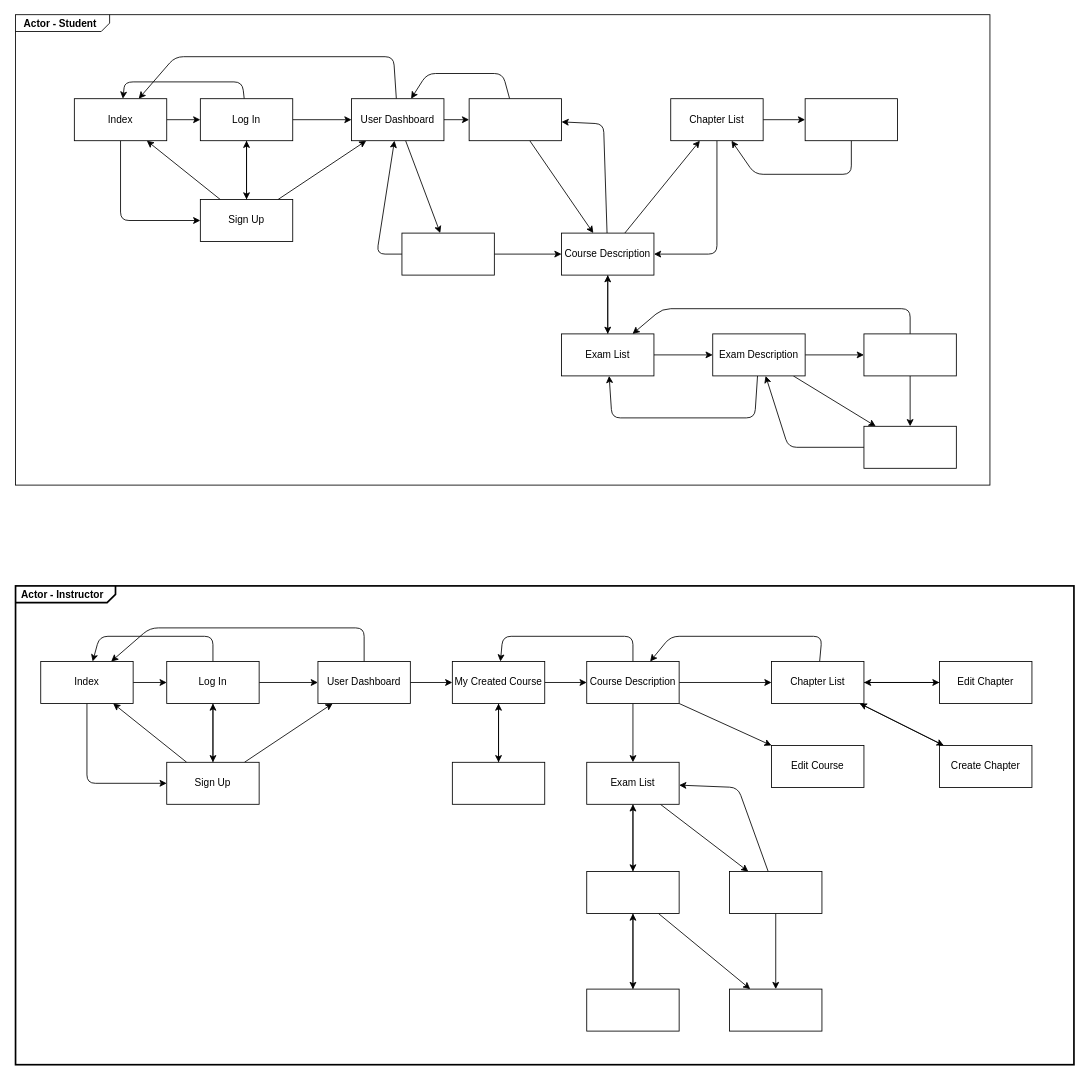
Image size: 1089x1080. Some labels were removed from this diagram. Each missing label, with the centre of its shape:
Browse Course: [515,119]
Chapter Details: [851,119]
Create Course: [498,782]
Create Exam: [775,892]
Create Question: [775,1009]
Edit Exam: [632,892]
Edit Question: [632,1009]
Exam: [909,354]
Exam Results: [909,446]
My Enrolled Course: [447,253]
